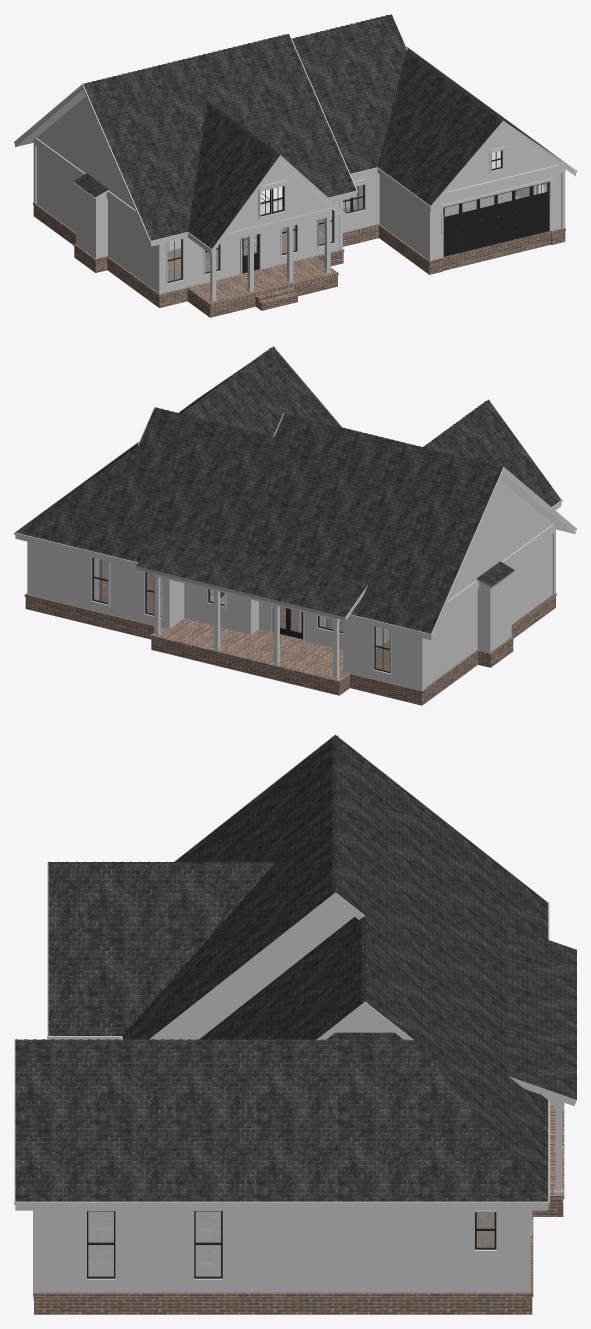
Rendered from casa_barrio2.glb.
The picture shows the model from 3 angles, top to bottom: view 1: azimuth 30°, elevation 25°; view 2: azimuth 150°, elevation 25°; view 3: azimuth 270°, elevation 25°; orthographic projection. The views are drawn at different scales.
Parts seen in each view (by area): view 1: casa_barrio2; view 2: casa_barrio2; view 3: casa_barrio2.
Part boxes in pixels (x1,y1,x2,y2): casa_barrio2: (14, 14, 576, 317); casa_barrio2: (14, 346, 576, 705); casa_barrio2: (14, 734, 576, 1314).
Bounding box in the file's own units: 8 × 3.55 × 6.35.
19 materials, 14 textured.
